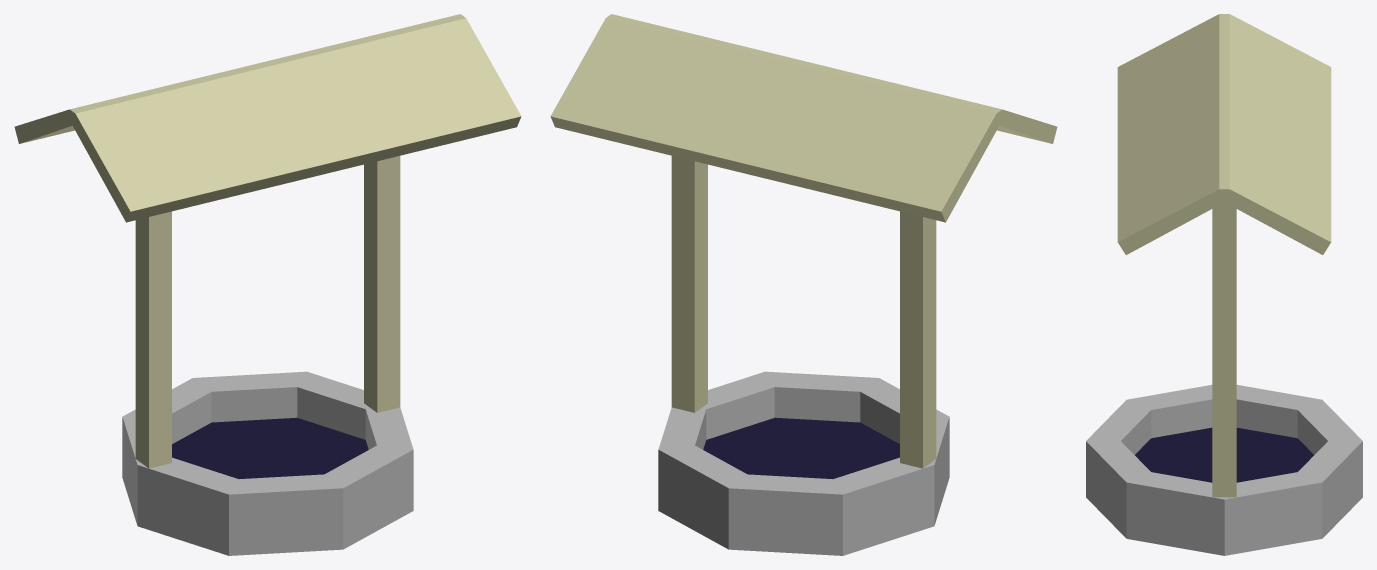
Rendered from well.fbx.
3 views of the same model, side by side, from view 1: azimuth 30°, elevation 25°; view 2: azimuth 150°, elevation 25°; view 3: azimuth 270°, elevation 25° (orthographic). The views are drawn at different scales.
Parts seen in each view (by area): view 1: Circle; view 2: Circle; view 3: Circle.
Part boxes in pixels (x1,y1,x2,y2): Circle: (14, 14, 521, 555); Circle: (550, 14, 1057, 555); Circle: (1086, 14, 1362, 555).
Size of the model in its own units: 200 by 211 by 134.
